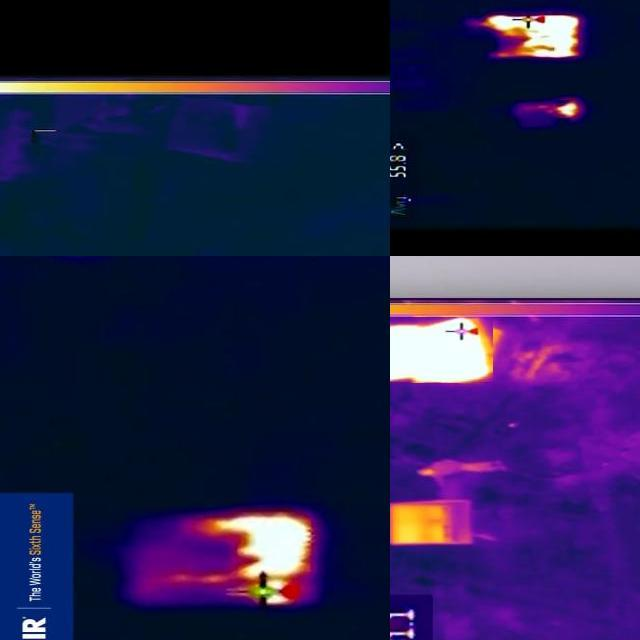fire: (189, 511, 316, 607), (391, 317, 494, 383), (480, 13, 580, 59), (392, 509, 455, 545), (554, 100, 584, 118)
